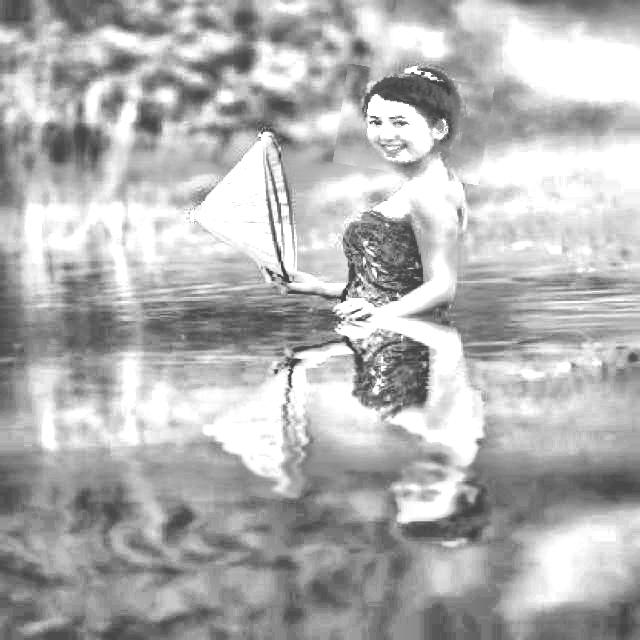happy: (337, 70, 491, 180)
